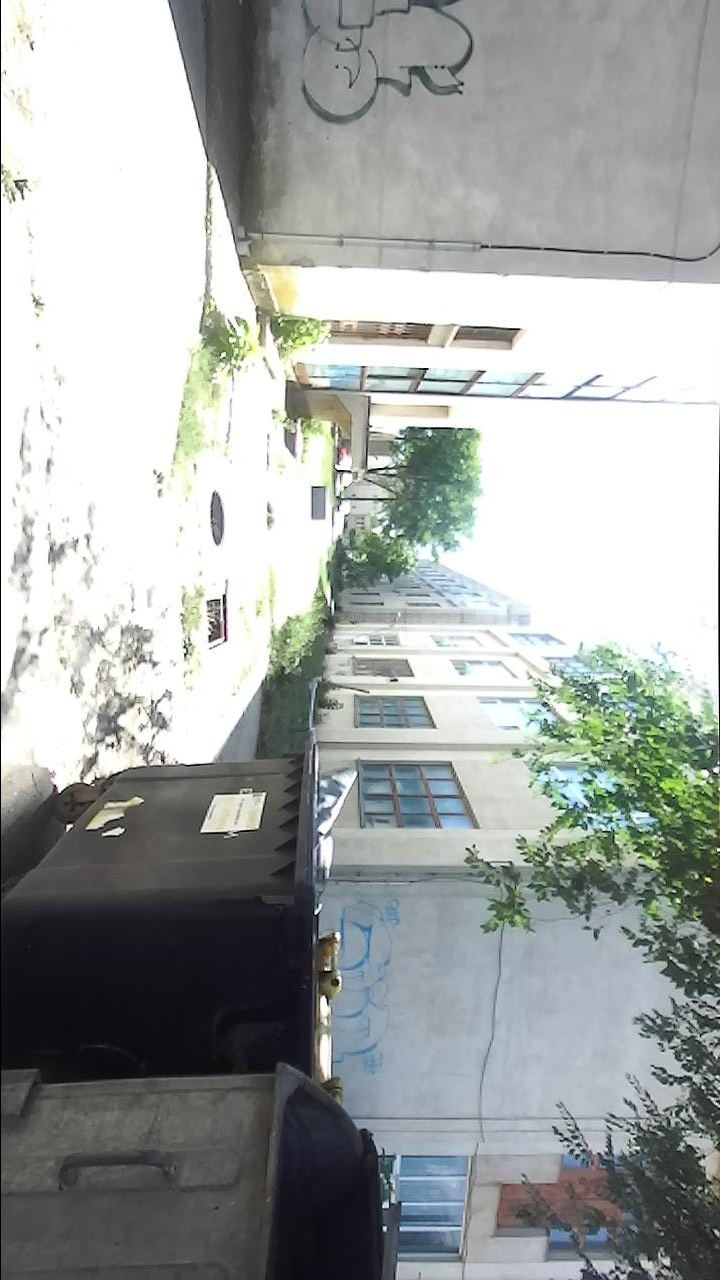drain: (201, 589, 233, 650), (206, 487, 229, 550)
